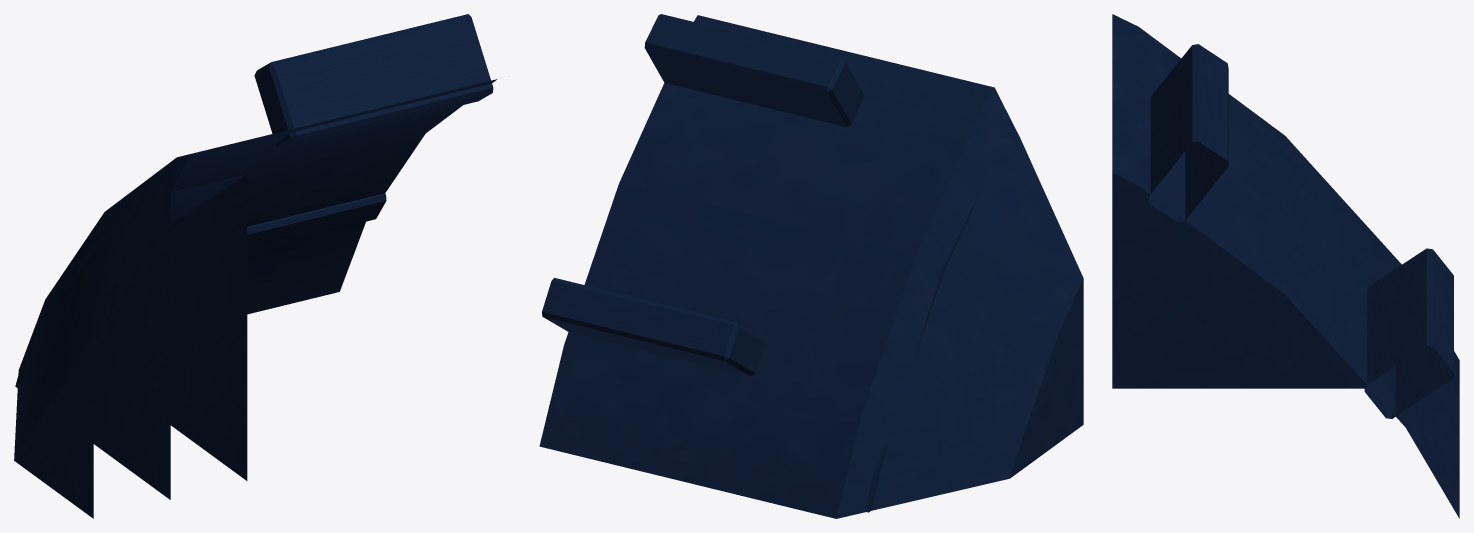
File: cell_52.obj
The picture shows the model from 3 angles, left to right: view 1: azimuth 30°, elevation 25°; view 2: azimuth 150°, elevation 25°; view 3: azimuth 270°, elevation 25°; orthographic projection. The views are drawn at different scales.
Parts seen in each view (by area): view 1: cell_52; view 2: cell_52; view 3: cell_52.
Part boxes in pixels (<box>): cell_52: <box>14,14,497,518</box>; cell_52: <box>539,14,1083,518</box>; cell_52: <box>1112,14,1459,518</box>.
Bounding box in the file's own units: 0.4775 × 0.407 × 0.3393.
